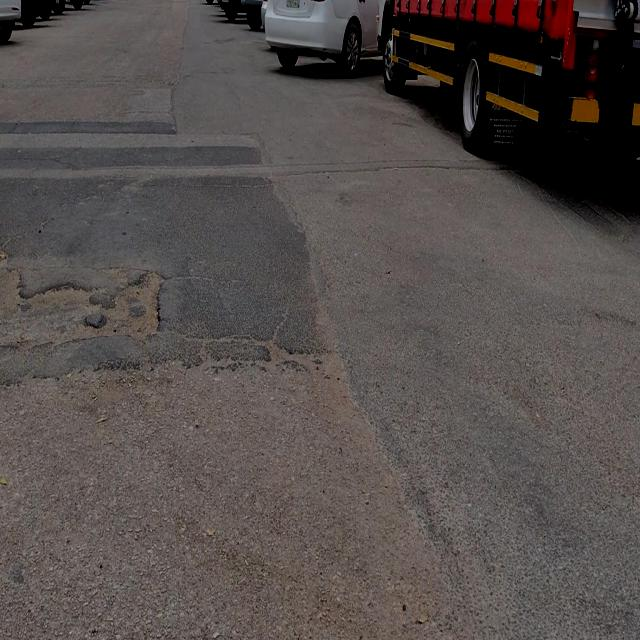Potholes: (17, 280, 100, 348), (97, 265, 165, 343)
